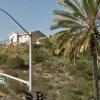Tree: (44, 2, 100, 76)
